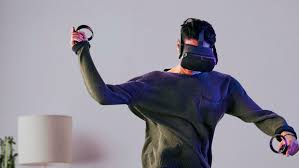oculus: (179, 39, 218, 74)
